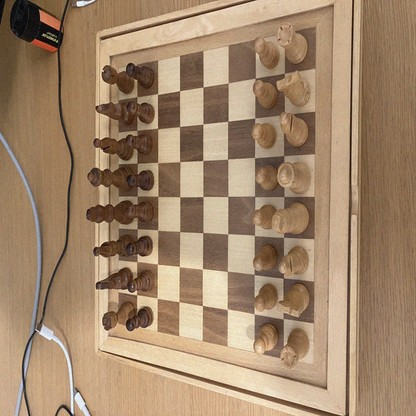bishop_black: (94, 139, 134, 159), (94, 239, 131, 258)
bishop_white: (280, 112, 308, 146), (279, 247, 308, 274)
king_black: (86, 205, 135, 224)
king_white: (272, 202, 309, 233)
knight_black: (96, 102, 133, 124), (96, 267, 131, 290)
knight_white: (278, 72, 311, 106), (279, 284, 308, 316)
pawn_black: (126, 62, 155, 87), (126, 100, 155, 124), (127, 306, 153, 329), (126, 202, 153, 224), (128, 271, 155, 292), (126, 170, 153, 190), (125, 134, 152, 154), (128, 237, 152, 256)
pawn_white: (254, 37, 280, 67), (256, 323, 278, 356), (254, 79, 277, 108), (251, 124, 275, 149), (255, 285, 278, 310), (254, 245, 276, 271), (254, 204, 276, 229), (255, 165, 276, 188)
queen_black: (88, 168, 132, 188)
queen_white: (277, 161, 311, 192)
rock_black: (102, 65, 134, 93), (103, 304, 135, 330)
rock_white: (278, 22, 308, 63), (282, 329, 310, 368)
